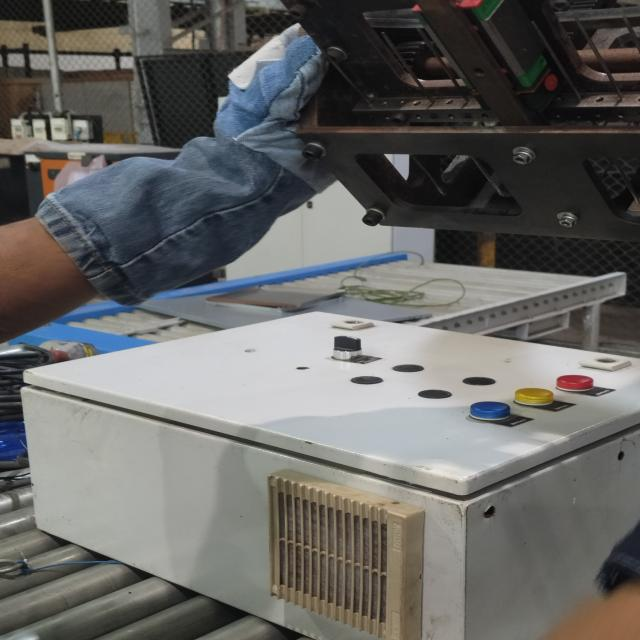Gloves-Detection: (53, 23, 344, 292)
